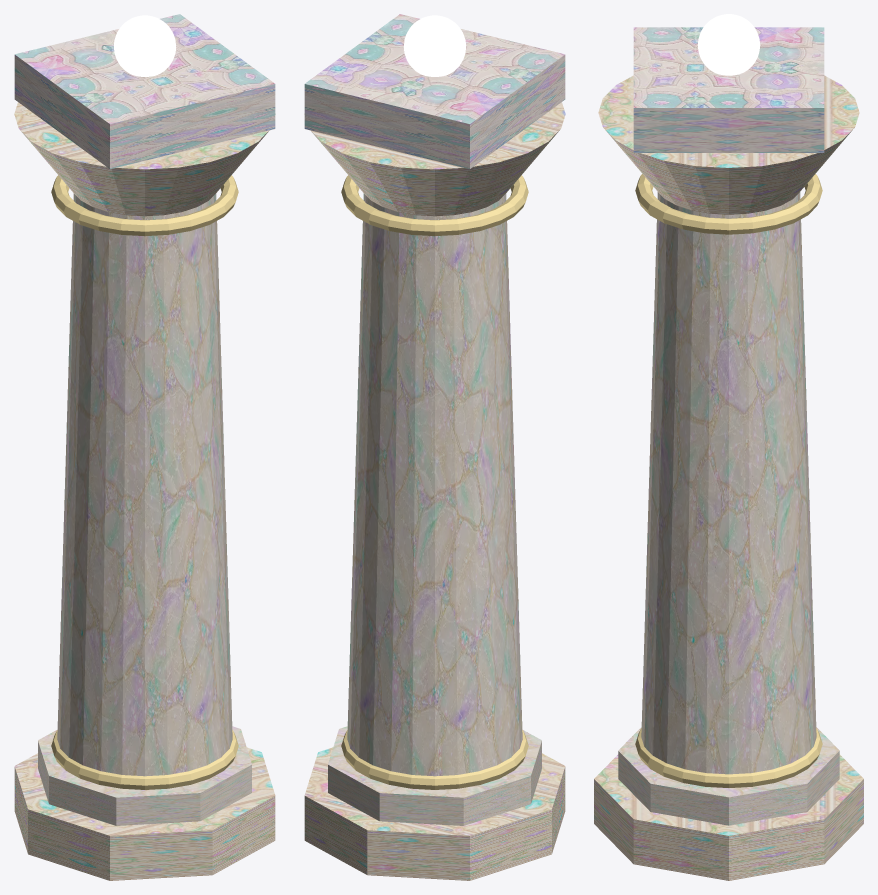
The model's file is struct_pillar.glb.
3 views of the same model, side by side, from view 1: azimuth 30°, elevation 25°; view 2: azimuth 150°, elevation 25°; view 3: azimuth 270°, elevation 25° (orthographic).
Visible parts, largest first — view 1: Cylinder.001, Cylinder, Cylinder.002, Torus, Sphere; view 2: Cylinder.001, Cylinder, Cylinder.002, Torus, Sphere; view 3: Cylinder.001, Cylinder, Cylinder.002, Torus, Sphere.
Boxes of the visible parts, x1,y1,x2,y2 form: Cylinder.001: [38, 193, 251, 825]; Cylinder: [14, 102, 275, 880]; Cylinder.002: [14, 14, 275, 169]; Torus: [51, 175, 238, 789]; Sphere: [113, 15, 176, 76]; Cylinder.001: [328, 193, 541, 825]; Cylinder: [304, 102, 565, 880]; Cylinder.002: [304, 14, 565, 169]; Torus: [341, 175, 528, 789]; Sphere: [403, 15, 466, 76]; Cylinder.001: [618, 192, 839, 825]; Cylinder: [594, 75, 863, 880]; Cylinder.002: [633, 27, 824, 152]; Torus: [635, 174, 822, 787]; Sphere: [697, 14, 760, 75].
Size of the model in its own units: 1.9 by 6.27 by 1.9.
5 materials, 3 textured.
